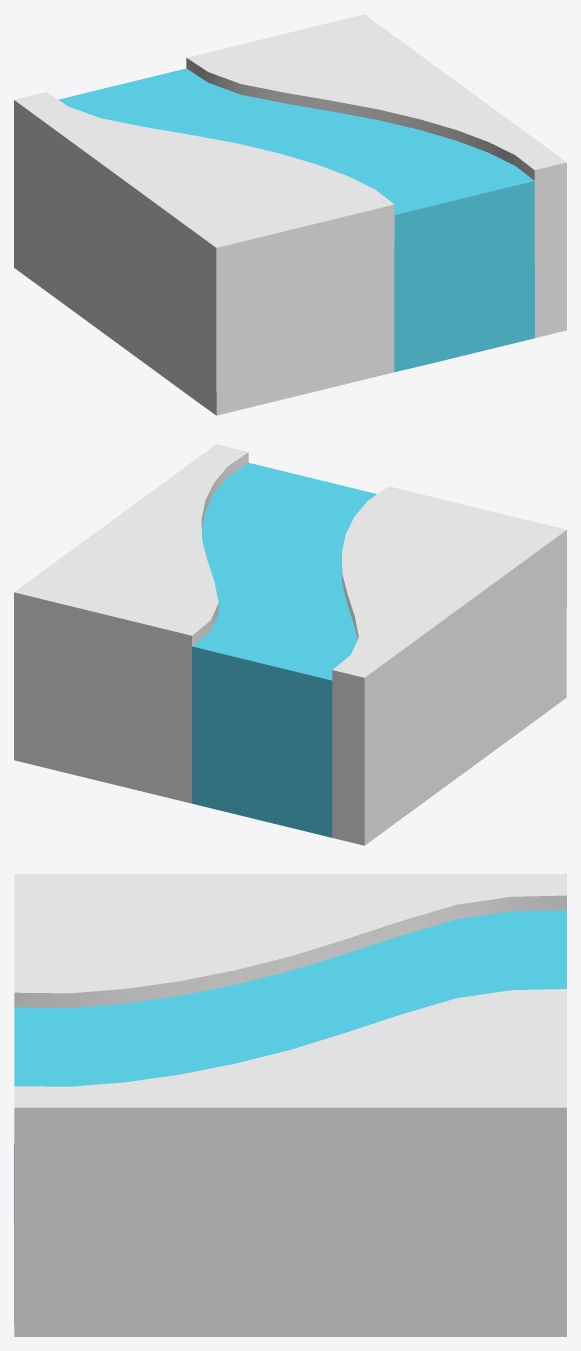
File: miti3.fbx
3 views of the same model, one above another, from view 1: azimuth 30°, elevation 25°; view 2: azimuth 150°, elevation 25°; view 3: azimuth 270°, elevation 25° (orthographic). The views are drawn at different scales.
Visible parts, largest first — view 1: pCube1; view 2: pCube1; view 3: pCube1.
Part boxes in pixels (x1,y1,x2,y2): pCube1: [14, 14, 566, 415]; pCube1: [14, 444, 566, 845]; pCube1: [14, 874, 566, 1336].
Bounding box in the file's own units: 24.03 × 11 × 24.05.
Materials: 1 (1 with a texture image).
